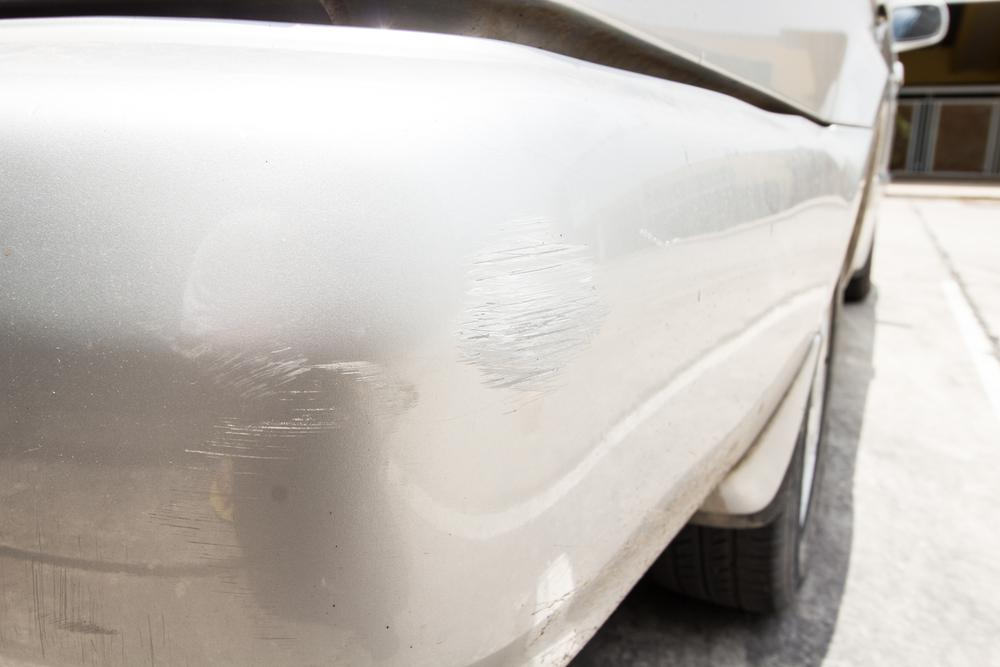scratch: (152, 302, 420, 644), (445, 206, 615, 398)
